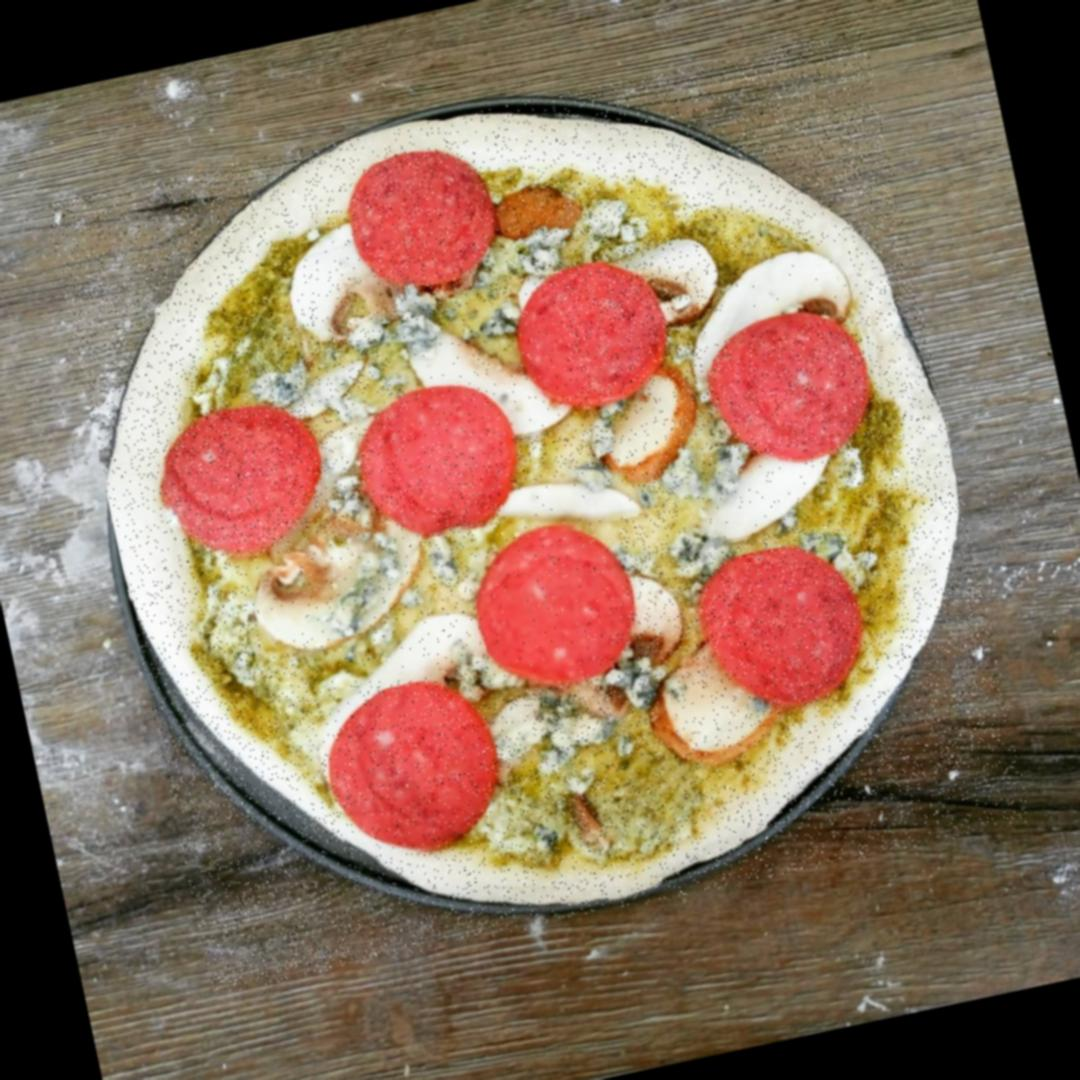Mushroom: (378, 289, 581, 462), (239, 519, 441, 665), (643, 632, 786, 774), (680, 239, 862, 348), (272, 206, 411, 342), (678, 442, 845, 550), (584, 357, 714, 486), (313, 609, 490, 700), (604, 226, 728, 333), (498, 459, 644, 542), (623, 562, 694, 666)
Pepperoni: (317, 669, 514, 867), (692, 534, 880, 724), (464, 512, 648, 698), (702, 302, 885, 479), (154, 395, 337, 568), (350, 374, 528, 548), (507, 252, 679, 420), (340, 140, 512, 302)
Pizza: (46, 29, 1033, 996)
